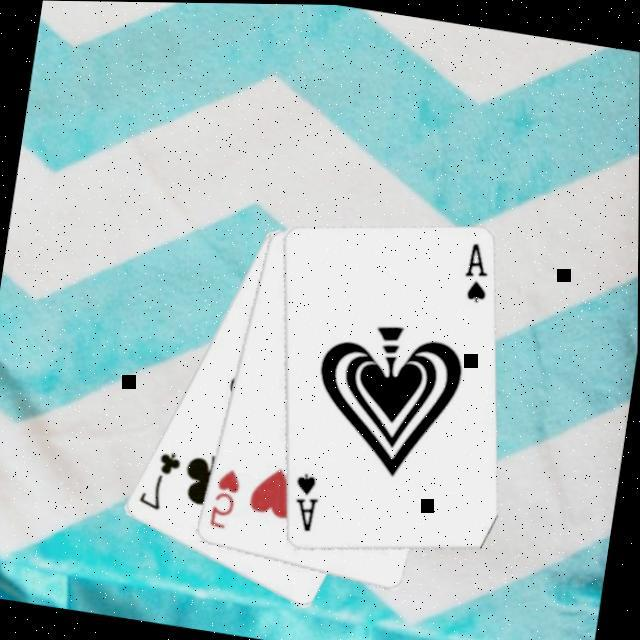5H: (207, 462, 245, 531)
7C: (136, 442, 187, 514)
AS: (459, 234, 498, 304), (288, 466, 326, 534)
